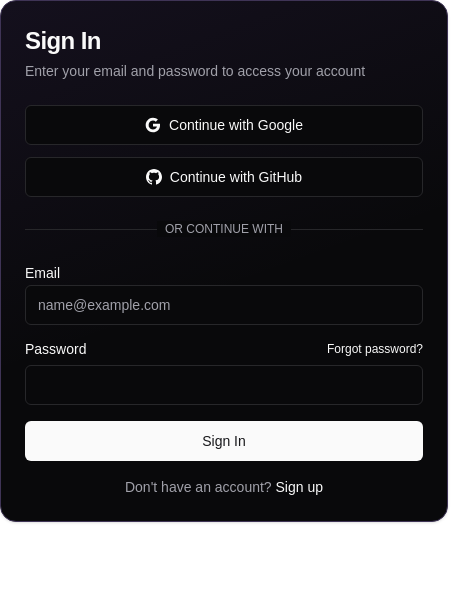
Test: LoginForm › shows error state
Type "test@test.com" into the field labelled "Email" at (224, 305), box [25,285,423,325]
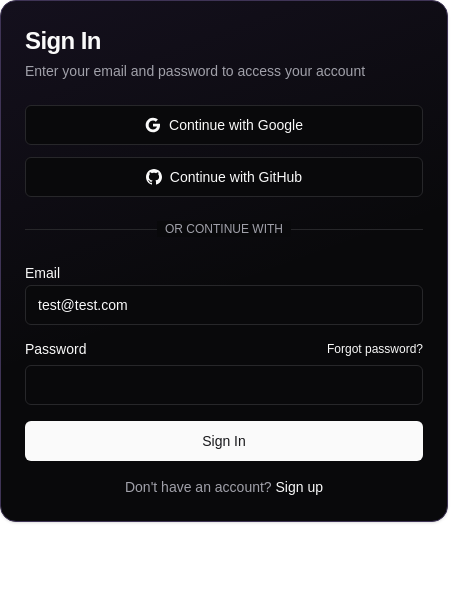
Type "password123" into the password field labelled "Password" at (224, 385), box [25,365,423,405]
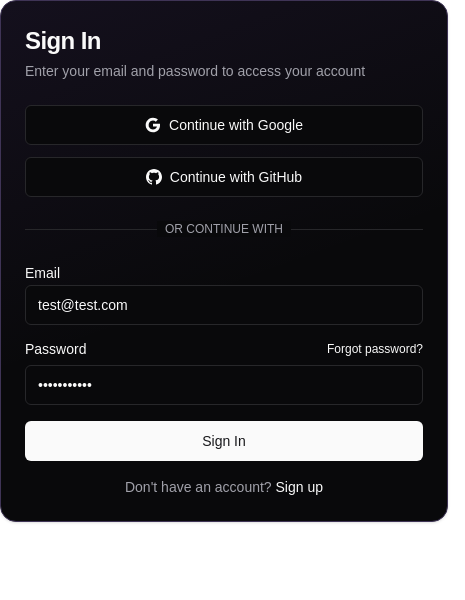
Click the button "Sign In" at (224, 441), box [25,421,423,461]
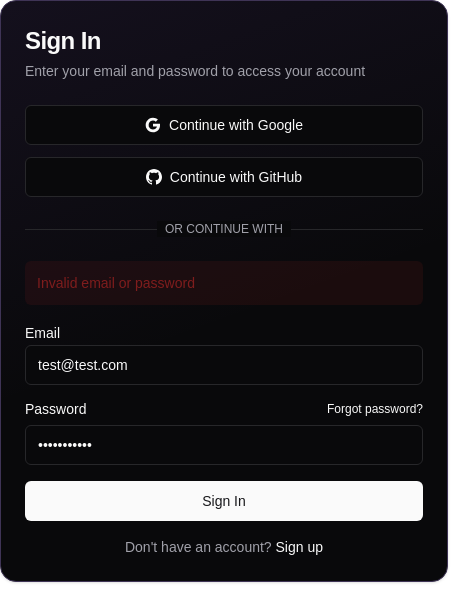
Now the text "Invalid email or password" is shown, box [25,261,423,305]
